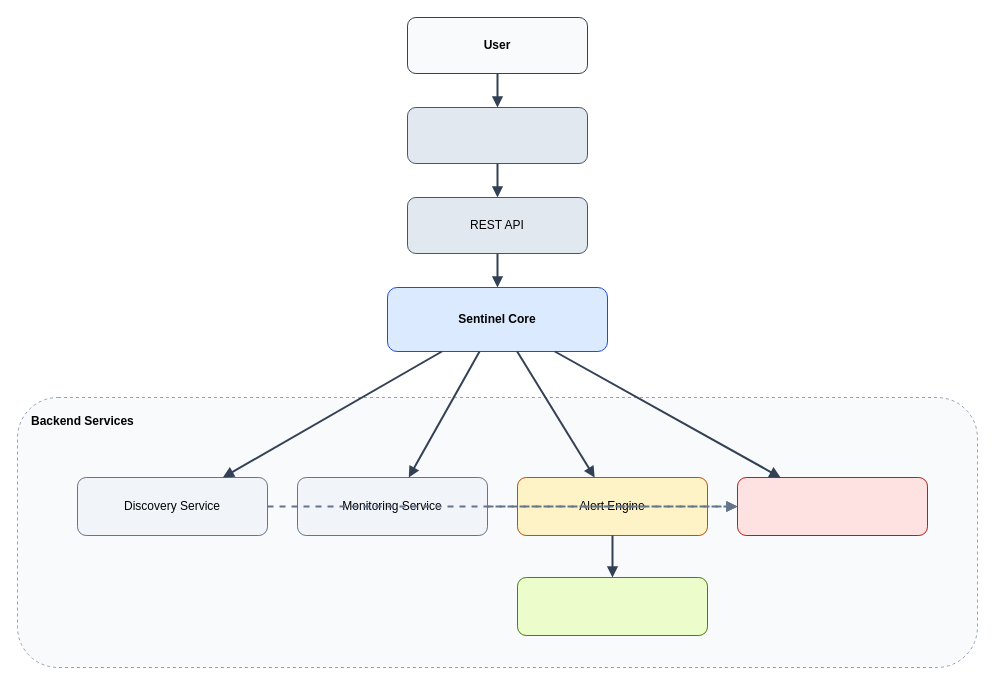
This 995x685 diagram has some shape labels left out. The shapes that lost their labels are listed below. From the top down, each one's box as (x1, y1, x2, y2) in pixels, then its label:
(406, 106, 588, 164): Dashboard
(736, 476, 928, 536): Database
(516, 576, 708, 636): Notification Service
